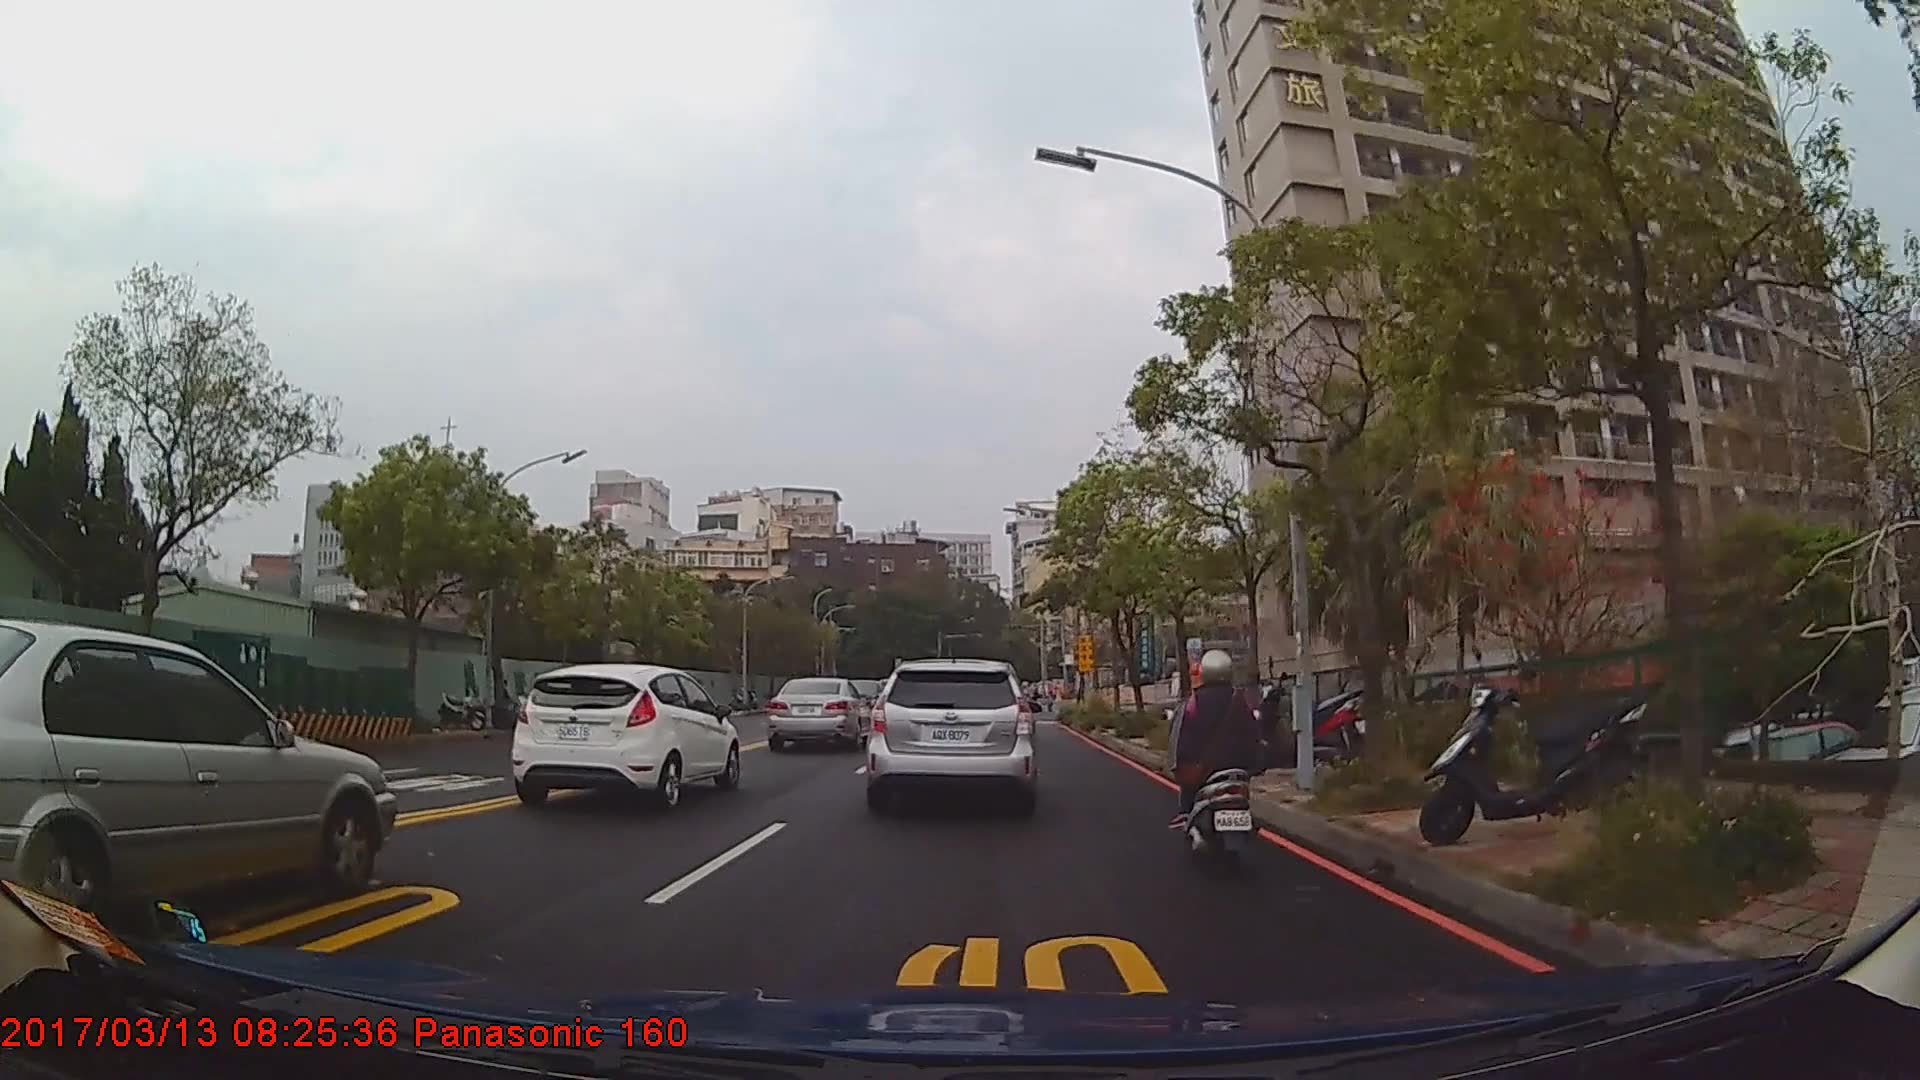rider: (1166, 648, 1260, 874)
vehicle: (0, 616, 395, 942), (509, 662, 738, 815), (866, 657, 1036, 818), (768, 674, 873, 754)
